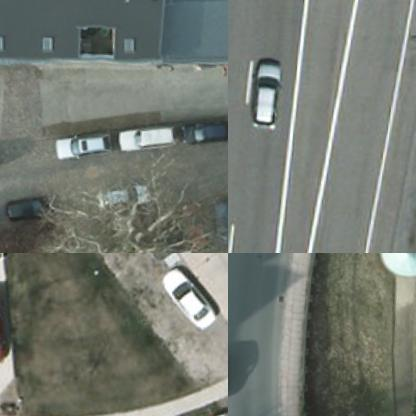car: (152, 262, 222, 334), (244, 56, 282, 128), (111, 118, 173, 154), (46, 125, 108, 160), (169, 198, 204, 252), (92, 178, 149, 211), (174, 112, 228, 146), (200, 193, 227, 252), (1, 188, 51, 218)
